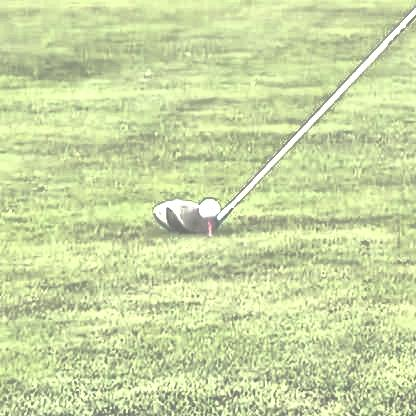golfball: (194, 196, 219, 220)
